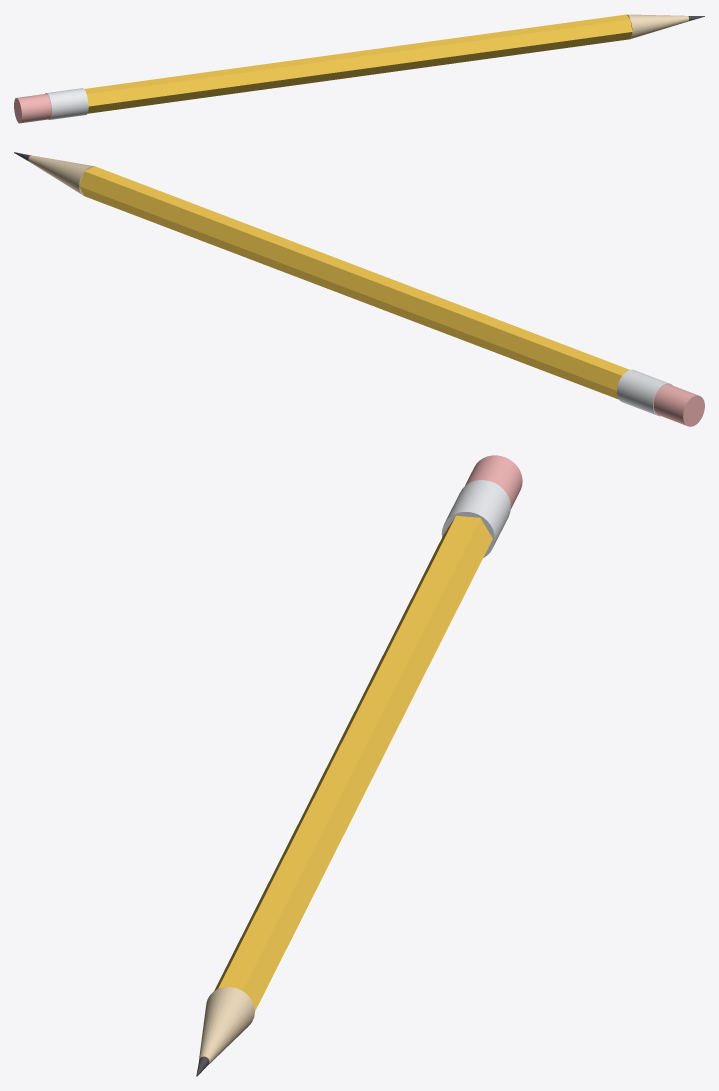
File: pencil.glb
The picture shows the model from 3 angles, top to bottom: view 1: azimuth 30°, elevation 25°; view 2: azimuth 150°, elevation 25°; view 3: azimuth 270°, elevation 25°; orthographic projection. The views are drawn at different scales.
Parts seen in each view (by area): view 1: pc_body, pc_ferrule, pc_eraser, pc_tip; view 2: pc_body, pc_eraser, pc_ferrule, pc_tip; view 3: pc_body, pc_tip, pc_ferrule, pc_eraser.
Boxes of the visible parts, bbox=[...] form: pc_body: bbox=[84, 14, 632, 113]; pc_ferrule: bbox=[45, 88, 88, 119]; pc_eraser: bbox=[14, 94, 51, 123]; pc_tip: bbox=[627, 14, 688, 38]; pc_body: bbox=[79, 166, 629, 399]; pc_eraser: bbox=[653, 384, 704, 426]; pc_ferrule: bbox=[617, 369, 672, 416]; pc_tip: bbox=[28, 155, 94, 195]; pc_body: bbox=[214, 515, 492, 1010]; pc_tip: bbox=[199, 987, 254, 1065]; pc_ferrule: bbox=[441, 480, 510, 557]; pc_eraser: bbox=[465, 455, 522, 509].
Size of the model in its own units: 0.2033 by 0.0078 by 0.0468.
